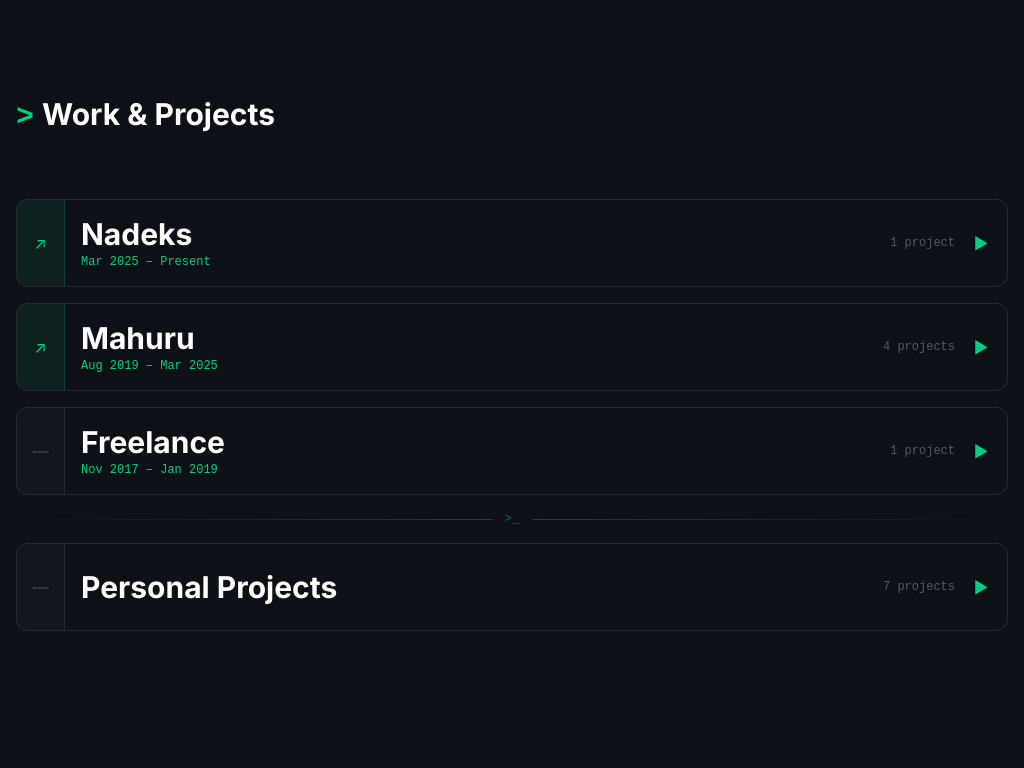
Test: WorkAndProjects › клик по блоку раскрывает проекты
Expected: the text "ARIASOFT.POS / ARIASOFT.T2P" is not shown
Note: Кликаем по периоду Nadeks — он внутри кликабельного div блока
Click the text "Mar 2025 – Present" at x=146, y=262, box [81, 255, 211, 269]
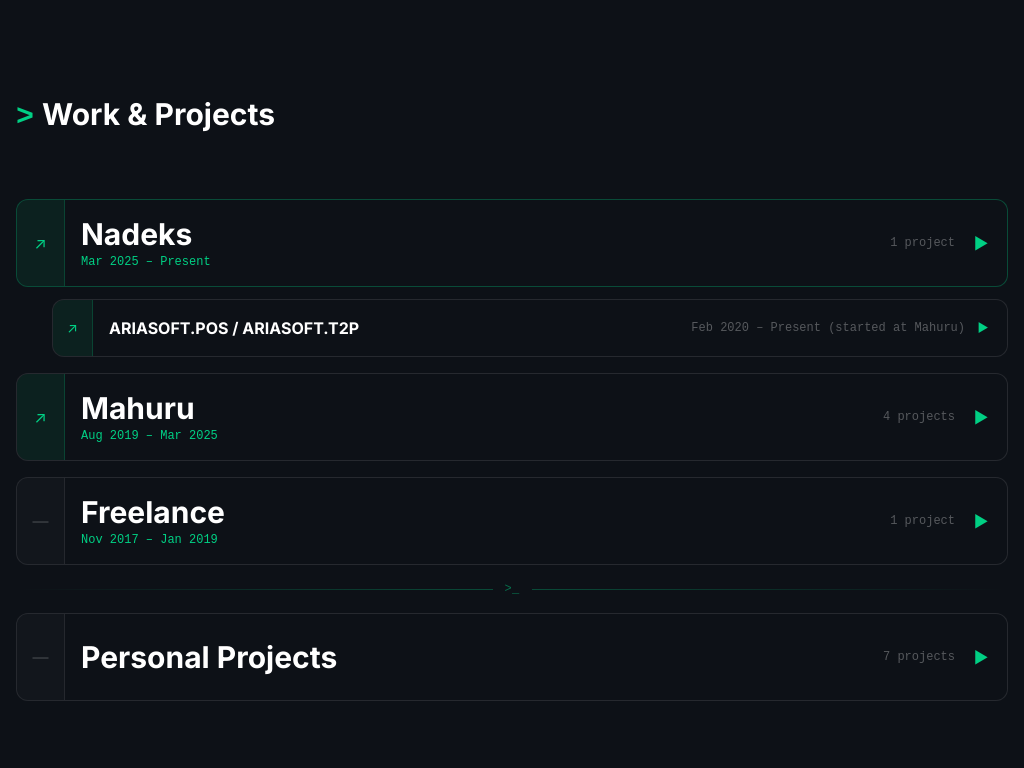
Result: the heading "ARIASOFT.POS / ARIASOFT.T2P" is shown at [109, 316, 359, 340]
